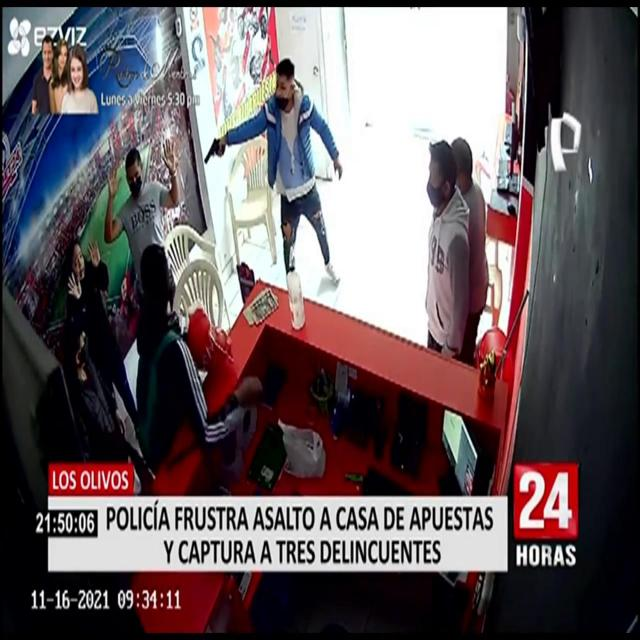gun: (202, 129, 226, 174)
